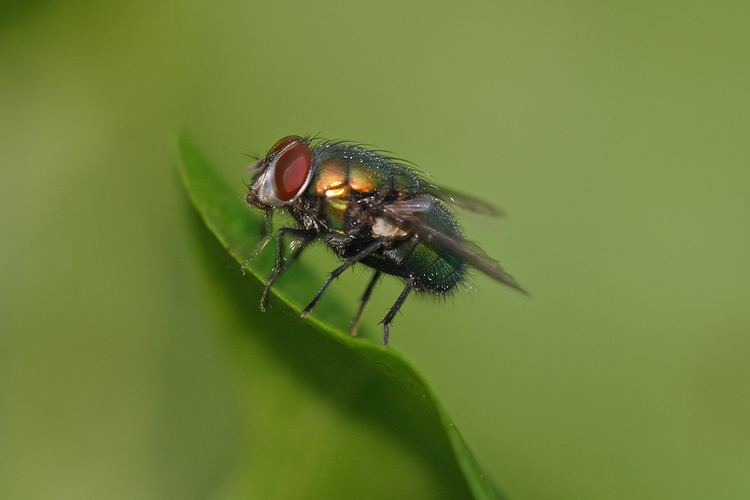green bottles flies: (225, 112, 537, 358)
